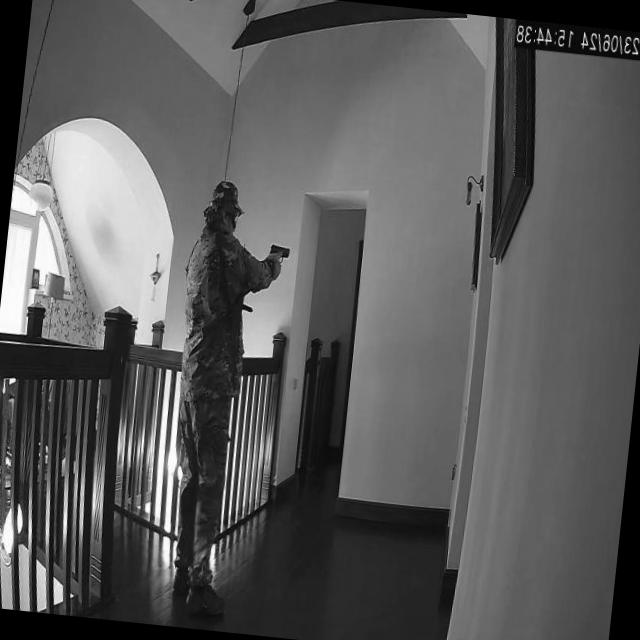gun: (265, 240, 292, 268)
person with a gun: (148, 175, 276, 620)
